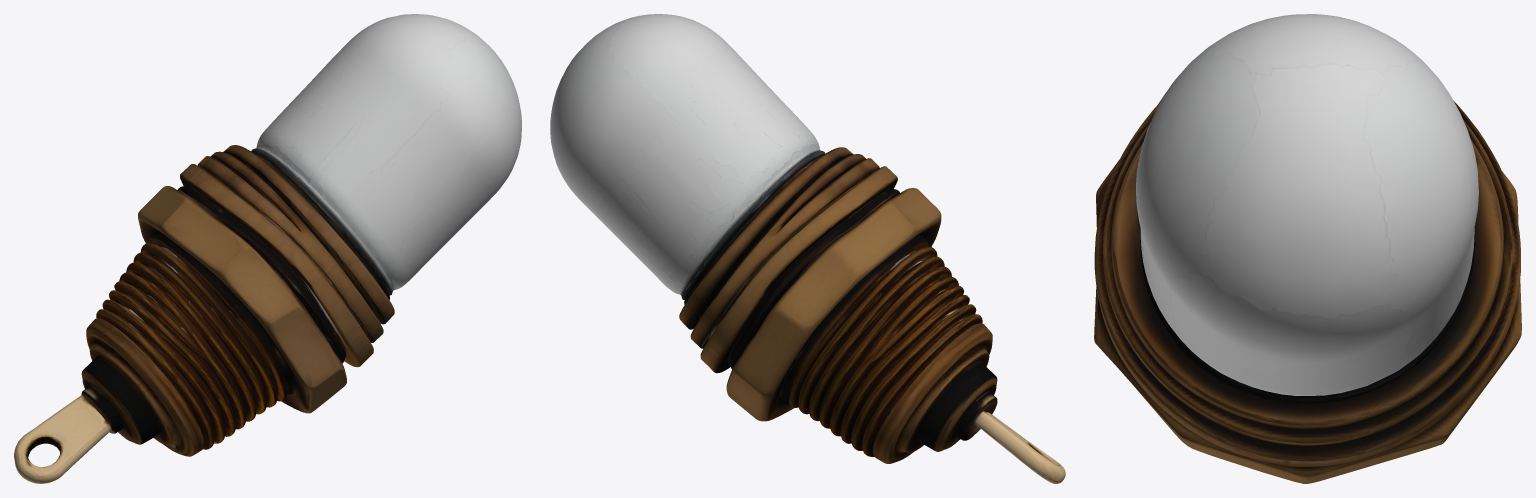
Rendered from light.glb.
The picture shows the model from 3 angles, left to right: view 1: azimuth 30°, elevation 25°; view 2: azimuth 150°, elevation 25°; view 3: azimuth 270°, elevation 25°; orthographic projection. The views are drawn at different scales.
Parts seen in each view (by area): view 1: texture_pbr_v128; view 2: texture_pbr_v128; view 3: texture_pbr_v128.
Boxes of the visible parts, x1,y1,x2,y2 form: texture_pbr_v128: [14, 14, 521, 483]; texture_pbr_v128: [550, 14, 1065, 483]; texture_pbr_v128: [1094, 14, 1521, 483].
Bounding box in the file's own units: 1 × 0.7157 × 0.4688.
1 material, 1 textured.
